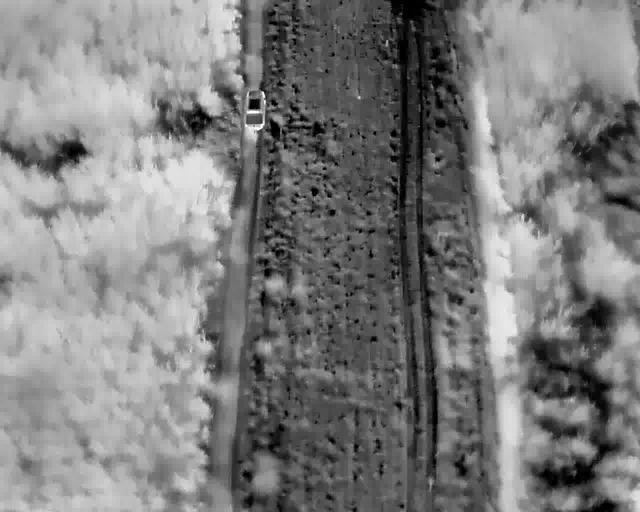car: (244, 91, 265, 131)
